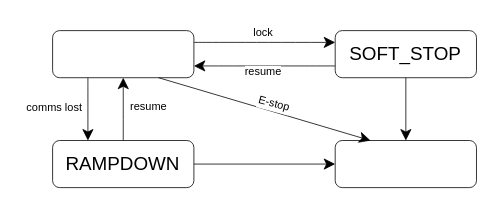
Image size: 504x215. Some labels were removed from this diagram. Each missing label, with the box of its shape:
HARD_ESTOP: (334, 139, 476, 187)
Normal: (51, 30, 194, 77)
